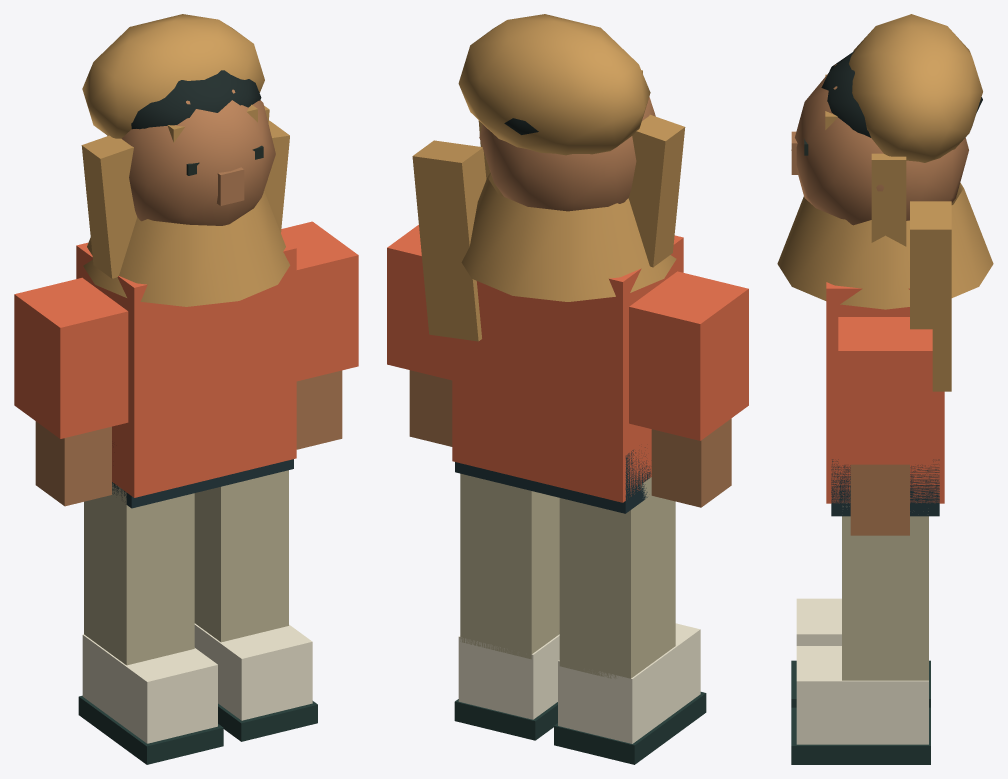
File: female-tudung-shawl.glb
3 renders of one model, left to right at view 1: azimuth 30°, elevation 25°; view 2: azimuth 150°, elevation 25°; view 3: azimuth 270°, elevation 25°, orthographic. The views are drawn at different scales.
Visible parts, largest first — view 1: female-tudung-shawl, avatar-tudung, tudung-neck-wrap; view 2: female-tudung-shawl, avatar-tudung, tudung-neck-wrap; view 3: female-tudung-shawl, avatar-tudung, tudung-neck-wrap.
Boxes of the visible parts, bbox=[...] form: female-tudung-shawl: bbox=[14, 70, 358, 764]; avatar-tudung: bbox=[81, 14, 289, 278]; tudung-neck-wrap: bbox=[83, 191, 290, 306]; female-tudung-shawl: bbox=[387, 97, 748, 764]; avatar-tudung: bbox=[412, 14, 685, 341]; tudung-neck-wrap: bbox=[461, 172, 676, 301]; female-tudung-shawl: bbox=[791, 51, 982, 764]; avatar-tudung: bbox=[825, 14, 982, 391]; tudung-neck-wrap: bbox=[777, 183, 993, 309].
Size of the model in its own units: 1.01 by 2.2 by 0.62.
